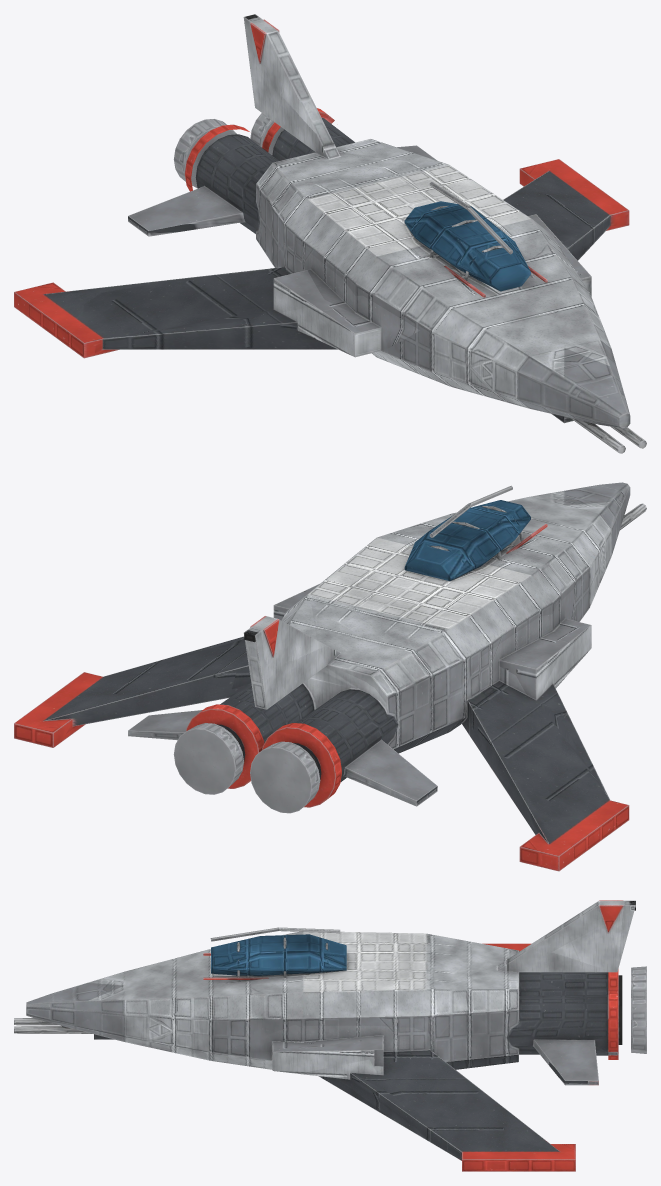
File: sd_ship_sahin.glb
3 views of the same model, one above another, from view 1: azimuth 30°, elevation 25°; view 2: azimuth 150°, elevation 25°; view 3: azimuth 270°, elevation 25° (orthographic). The views are drawn at different scales.
Visible parts, largest first — view 1: LOD0_body, LOD1_body; view 2: LOD0_body, LOD1_body; view 3: LOD0_body, LOD1_body.
Boxes of the visible parts, x1=… form: LOD0_body: x1=14, y1=14, x2=646, y2=453; LOD1_body: x1=46, y1=15, x2=625, y2=431; LOD0_body: x1=14, y1=482, x2=646, y2=871; LOD1_body: x1=43, y1=487, x2=625, y2=843; LOD0_body: x1=14, y1=900, x2=646, y2=1171; LOD1_body: x1=51, y1=902, x2=635, y2=1152.
Size of the model in its own units: 0.8074 by 0.2802 by 1.
Materials: 1 (1 with a texture image).
